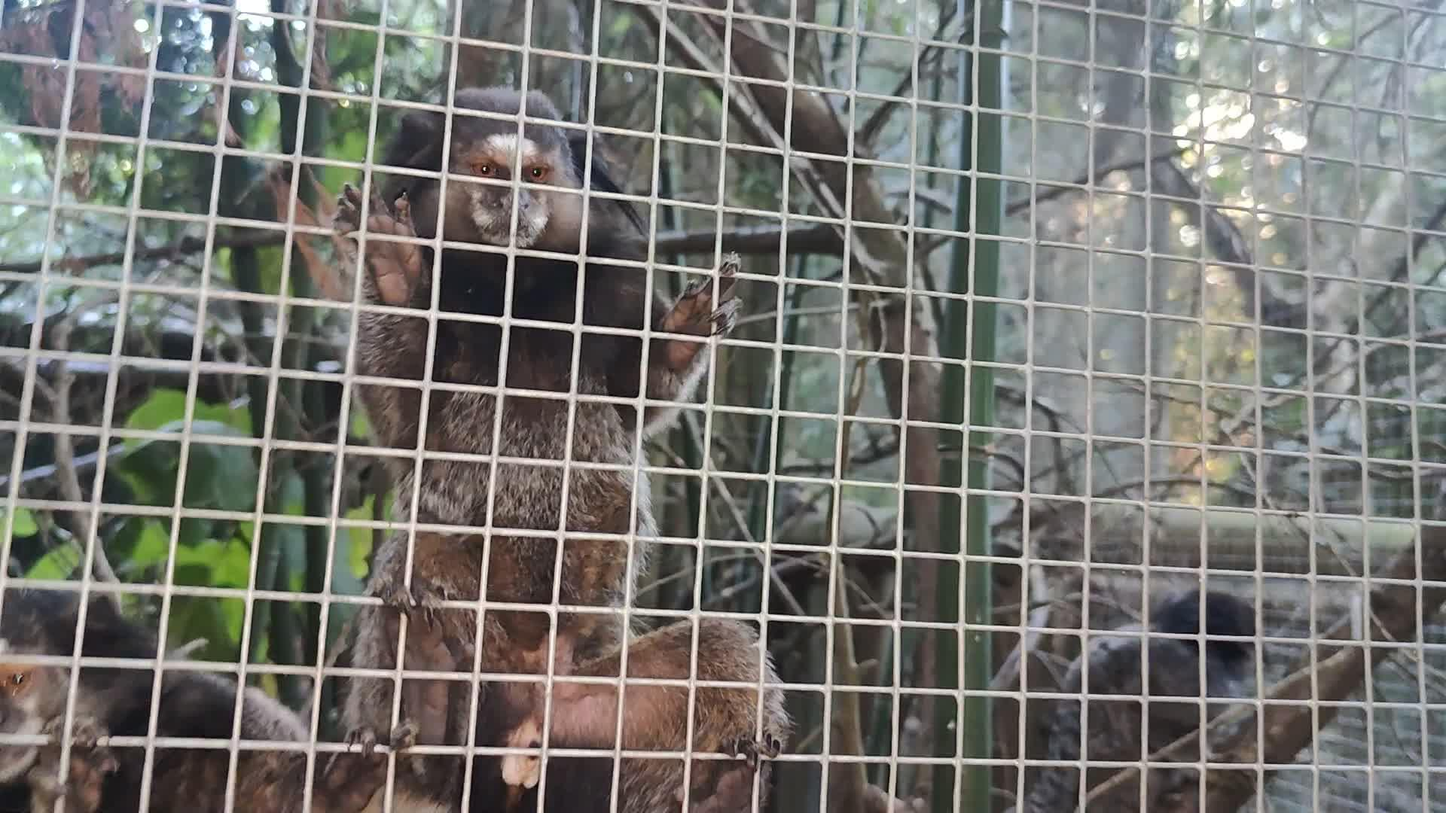boar: (323, 87, 798, 813), (0, 558, 325, 813)
